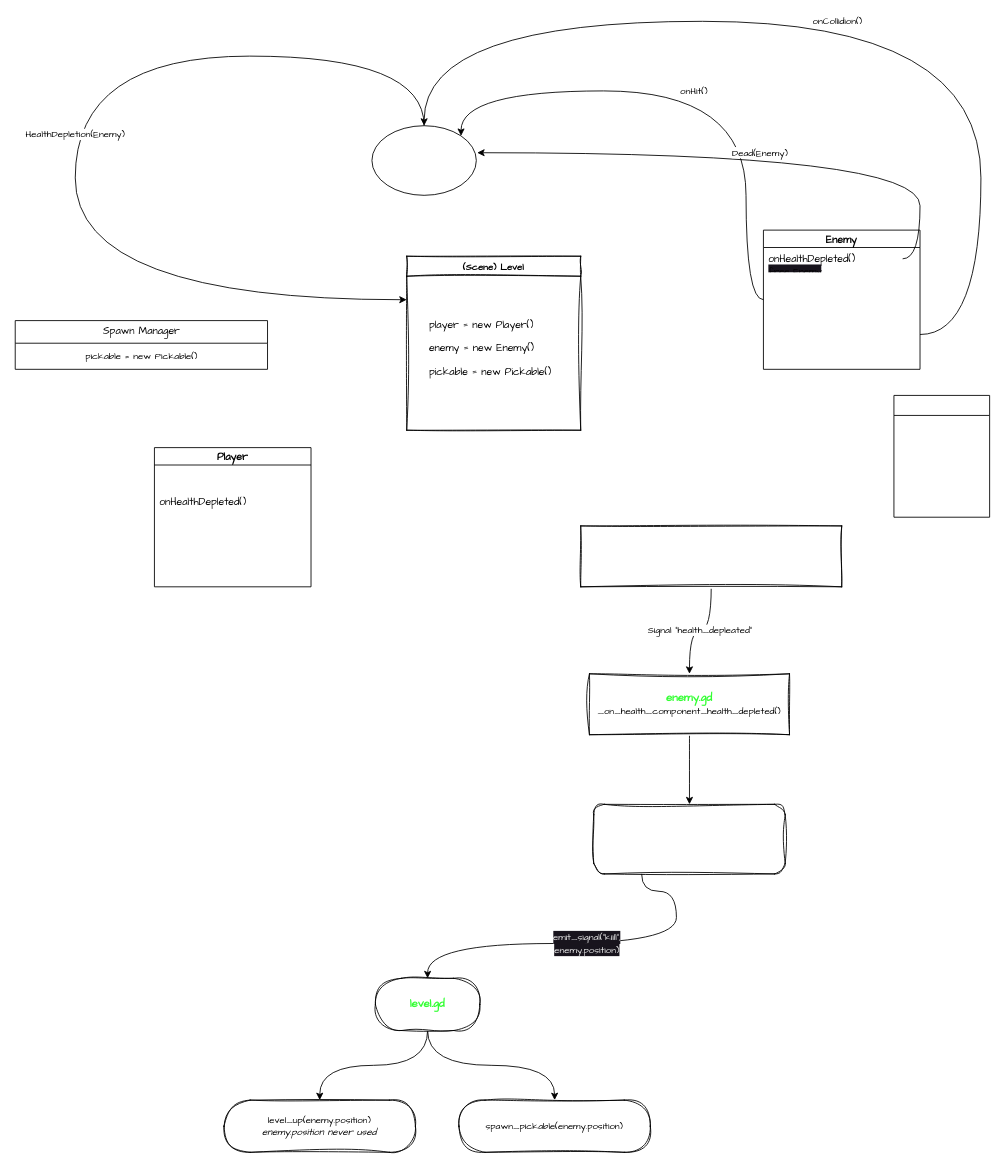
The diagram is 1005 pixels wide and 1168 high, and some of its shapes have lost their labels. Here are the shapes that lost their labels. From the top down, the centre of each, then its label:
At (423,160): "Event-Ampfilier".
At (941,456): "Pickable".
At (711,556): "HealthComponent.gd".
At (689,838): "Global.gd Global._on_enemy_health_depleted()".
